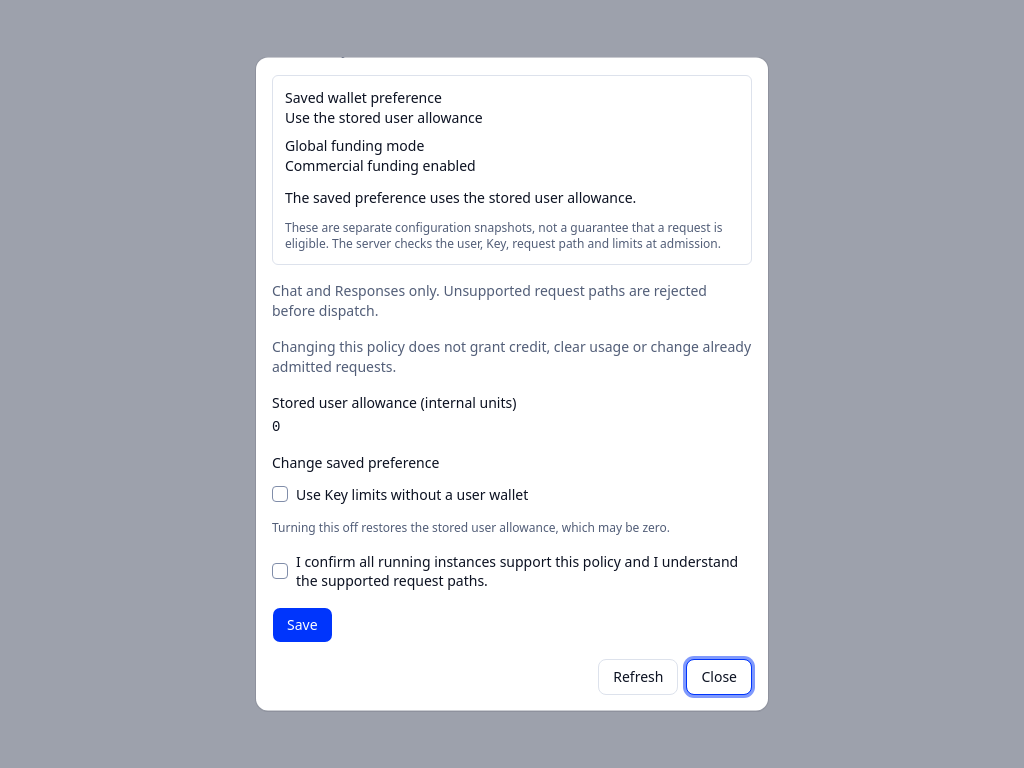
it: Root can save an inactive preference without changing the global funding mode
(page scrolled)
expect the text "Commercial funding enabled" is shown: met, box [285,155,476,174]
Click the checkbox named "Use Key limits without a user wallet" next to "Use Key limits without a user wallet". click: [280, 494]
box: [272,486,288,502]
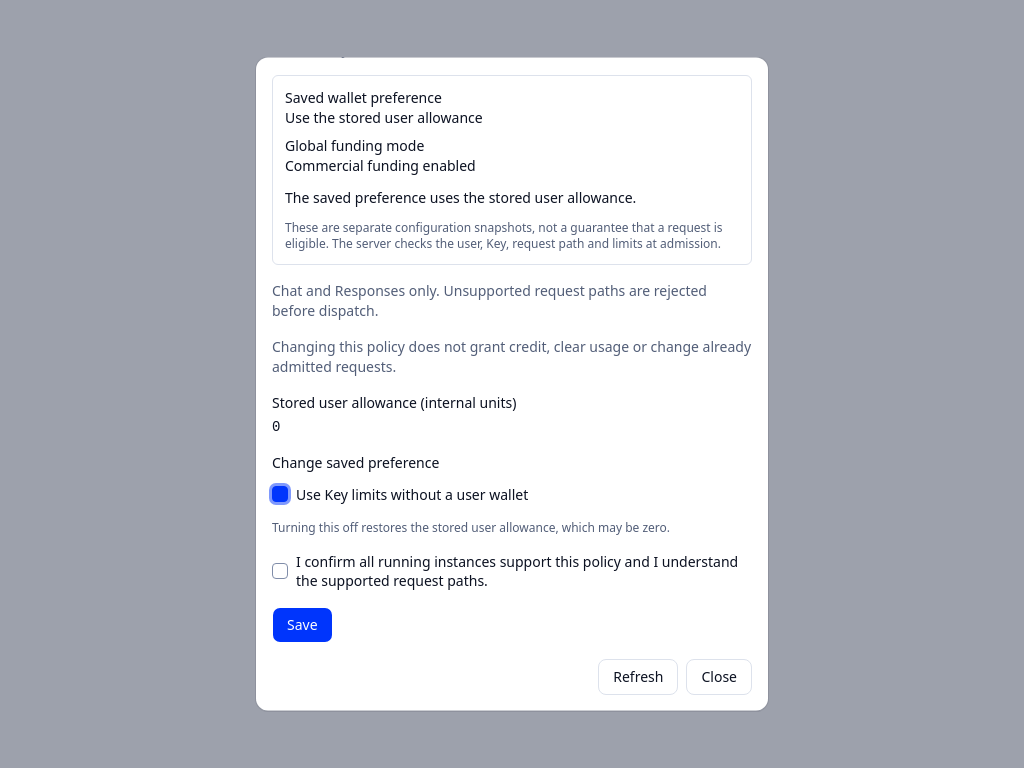
Click the 2nd checkbox named "I confirm all running instances support this policy and I understand the supported request paths.". click: [280, 571]
box: [272,563,288,579]
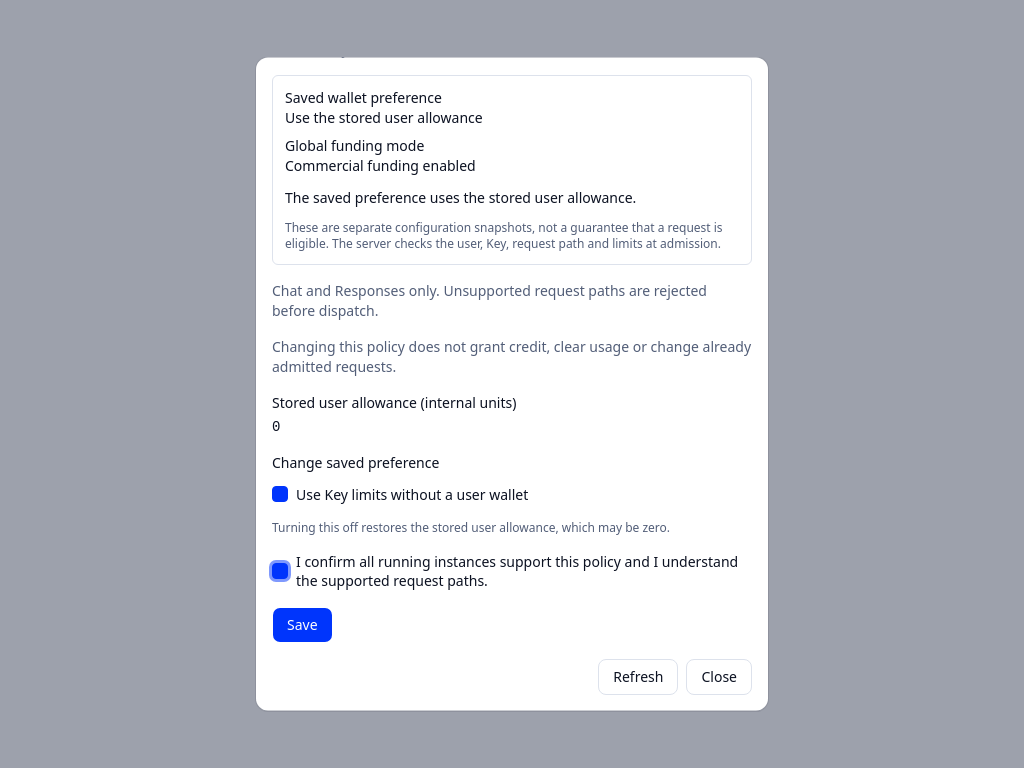
Click the button "Save". click: [302, 624]
box: [272,606,333,642]
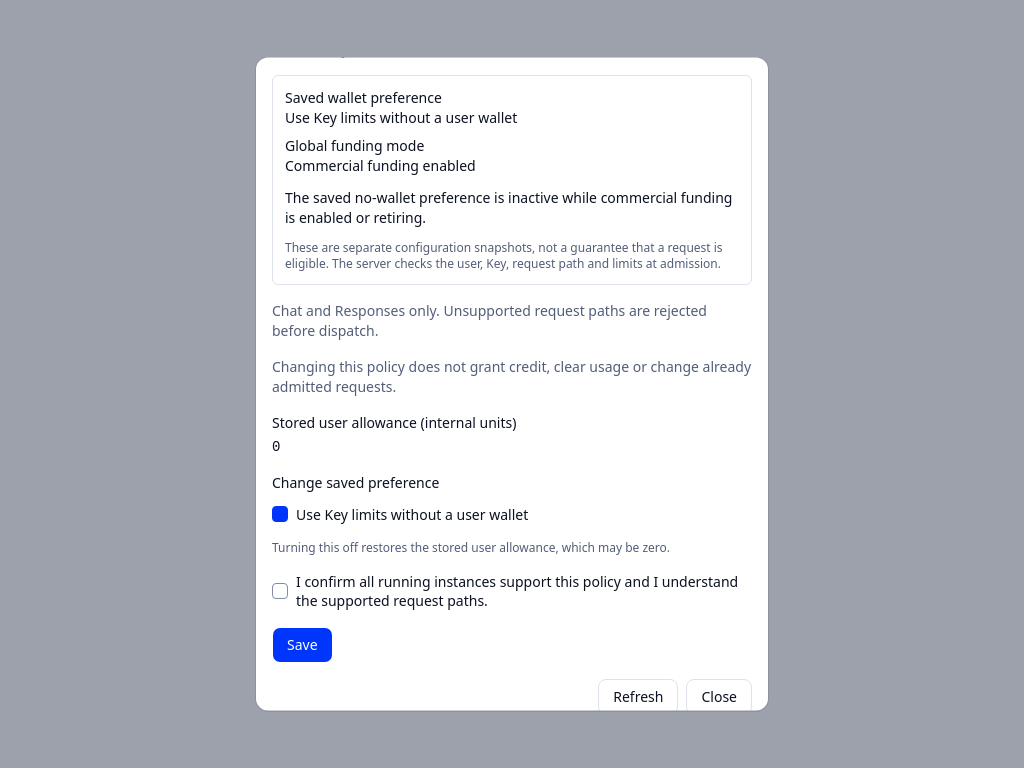
expect the text "Commercial funding enabled" is shown: met, box [285,155,476,174]
expect the text "The saved no-wallet preference is inactive while commercial funding is enabled or retiring." is shown: met, box [285,187,732,226]
